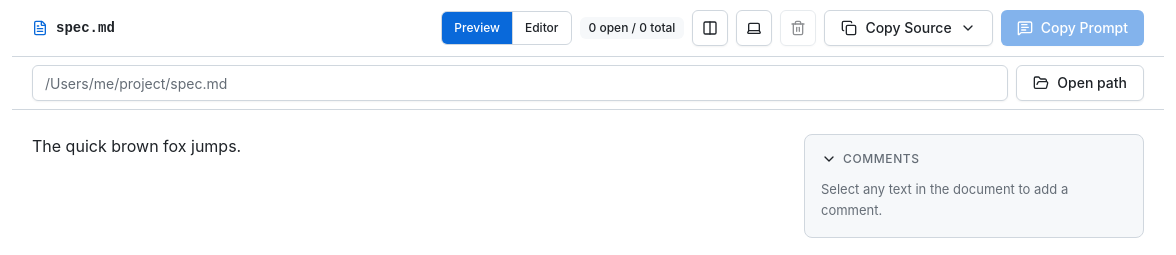
it: App editor mode › shows an error banner when Save fails
The image size is (1176, 255).
Expected: the text "spec.md" is shown, [56,18,115,38]
Click the button "Editor" at {"x": 541, "y": 28}, box [512,12,570,44]
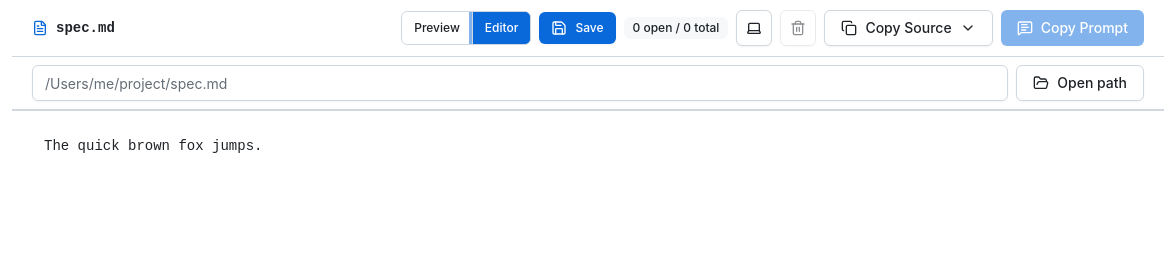
Click the button "Save" at {"x": 577, "y": 28}, box [539,12,616,44]
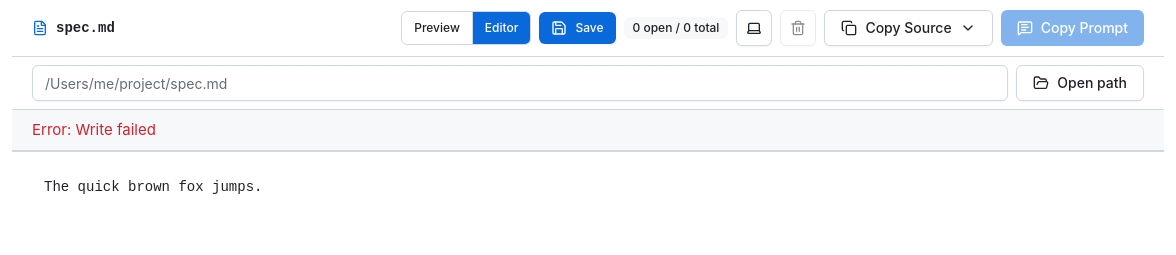
Expected: the text "Error: Write failed" is shown, [12,110,1164,151]
